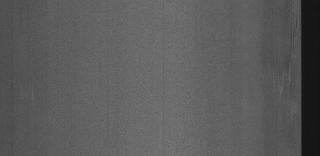silk spot: (274, 19, 298, 97)
